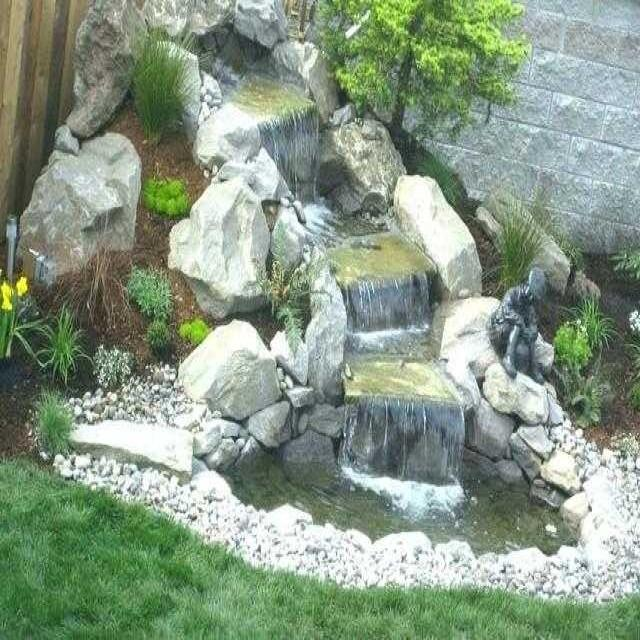Ponds: (55, 1, 640, 598)
